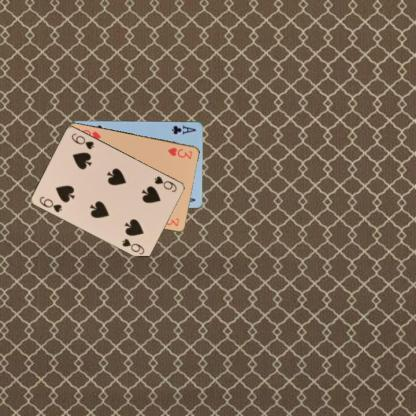3h: (165, 145, 194, 160)
6s: (38, 193, 64, 214), (152, 173, 178, 193)
Ac: (169, 123, 197, 135)
